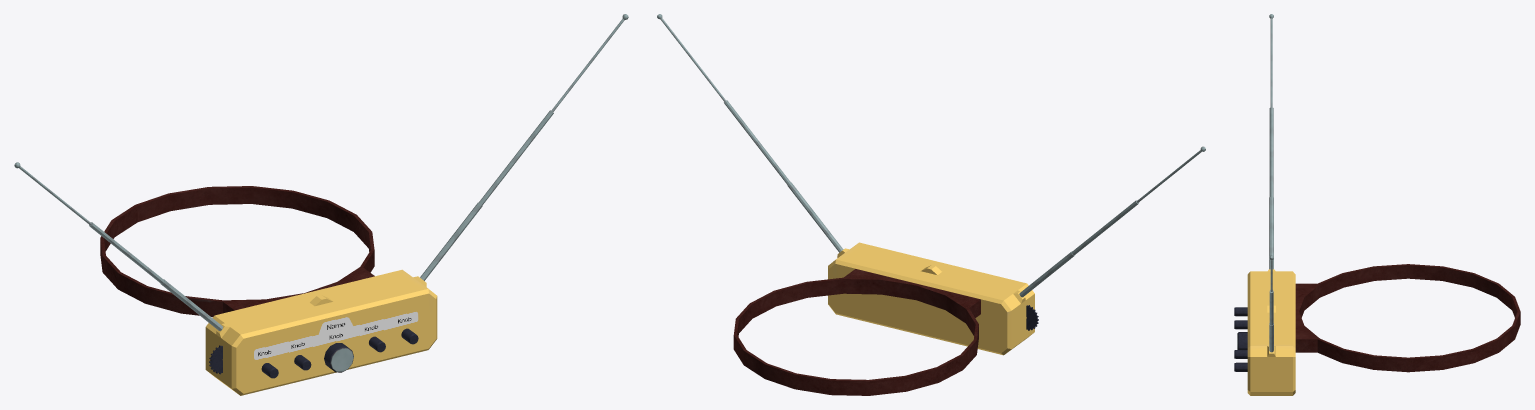
Rendered from Teleyeglasses.glb.
The picture shows the model from 3 angles, left to right: view 1: azimuth 30°, elevation 25°; view 2: azimuth 150°, elevation 25°; view 3: azimuth 270°, elevation 25°; orthographic projection. The views are drawn at different scales.
Parts seen in each view (by area): view 1: Teleyeglasses; view 2: Teleyeglasses; view 3: Teleyeglasses.
Boxes of the visible parts, x1,y1,x2,y2 form: Teleyeglasses: (14, 14, 628, 395); Teleyeglasses: (657, 14, 1205, 395); Teleyeglasses: (1234, 14, 1520, 395).
Bounding box in the file's own units: 5.5 × 2.36 × 2.73.
Materials: 1 (1 with a texture image).
